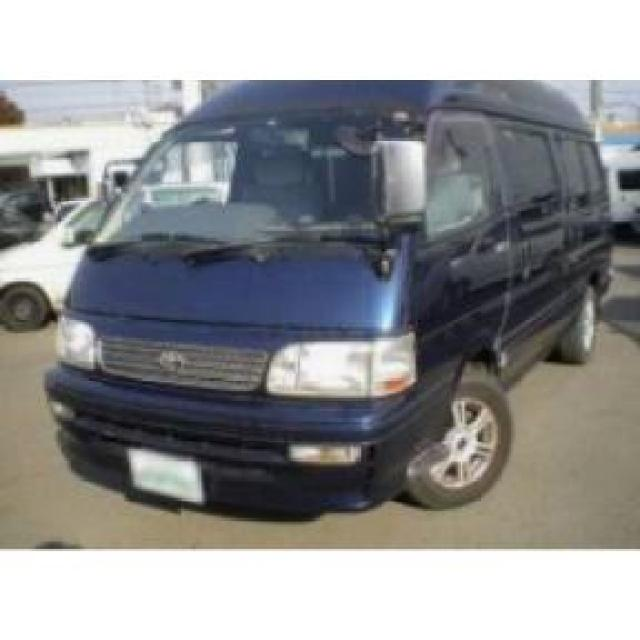Van: (44, 82, 602, 520)
